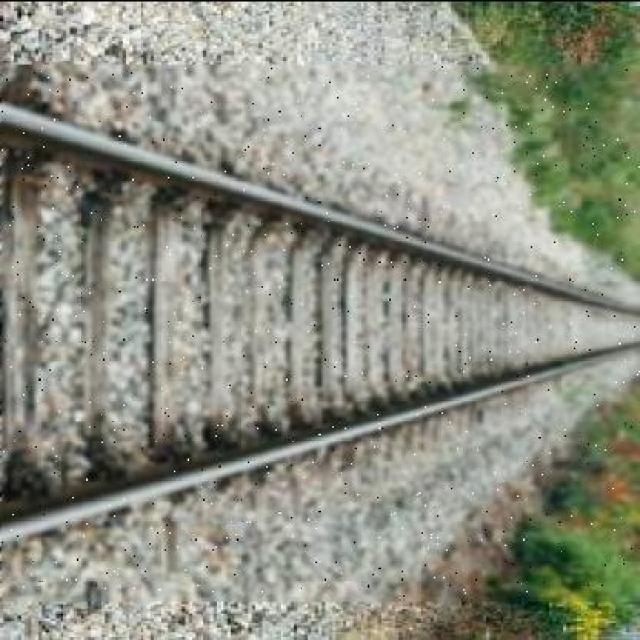rail: (2, 64, 640, 600)
